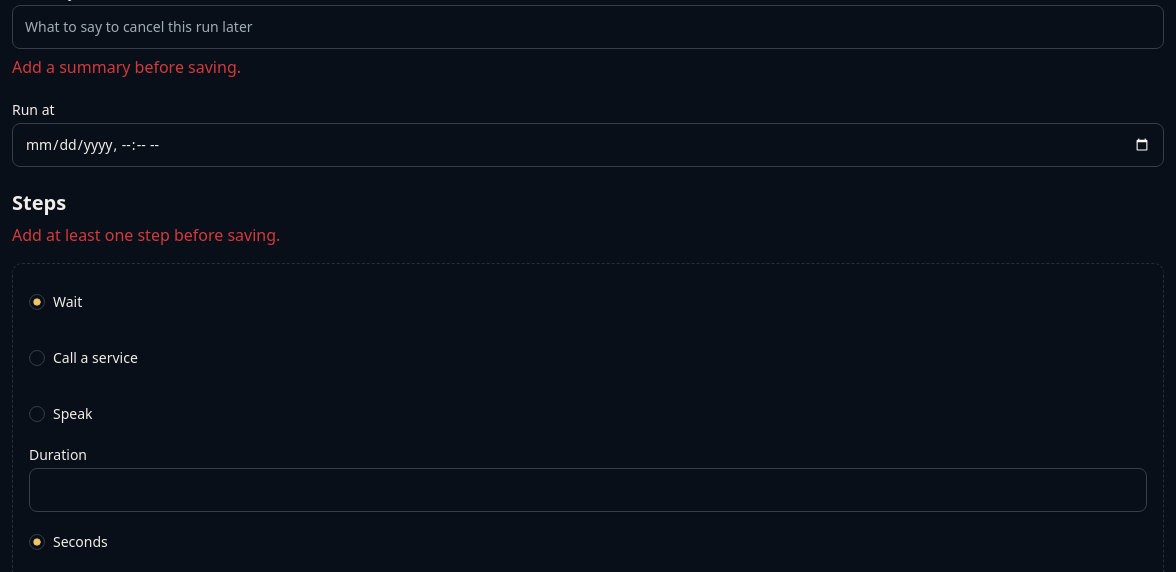
adding a step appends one row to the editor's step list
The width and height of the screenshot is (1176, 572).
In the number field labelled "Duration": (588, 490) [29,468,1147,512], type "5"
(page scrolled)
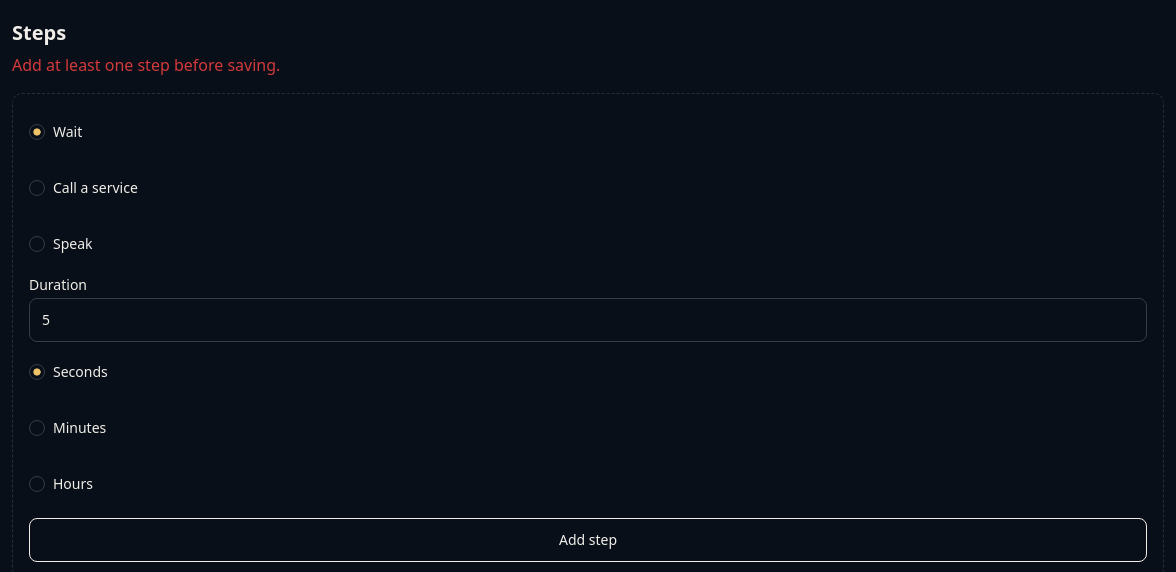
Click the button "Add step": (588, 540) [29,518,1147,562]
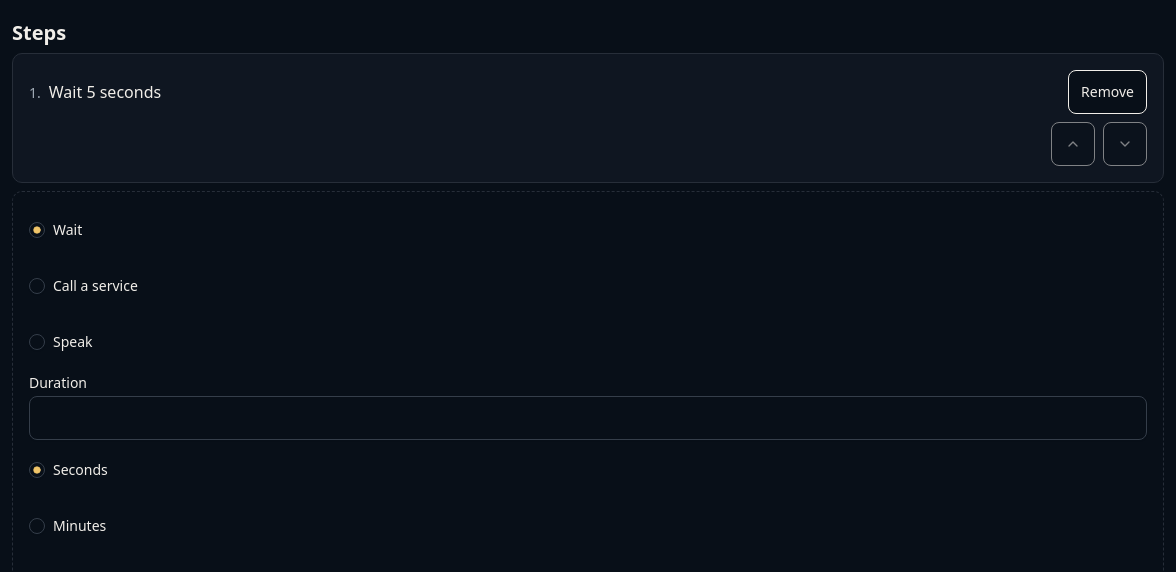
Expected: the text "Wait 5 seconds" is shown, [49,80,161,104]
Expected: the number of list items is 1, [12,53,1164,183]
